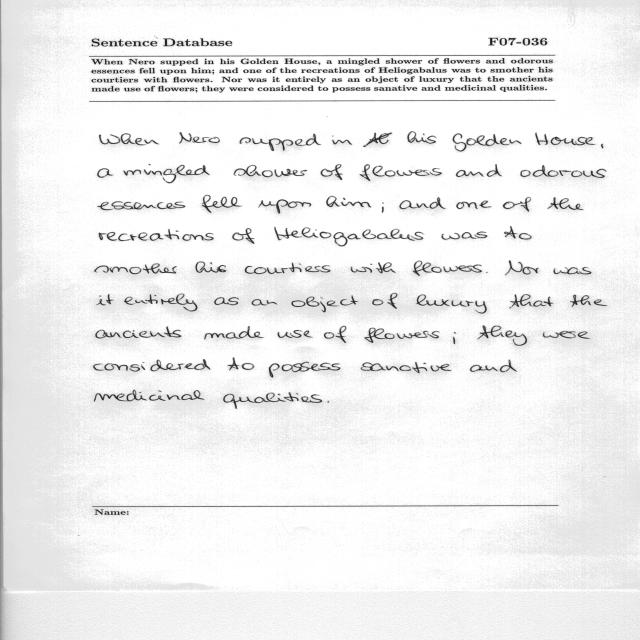word: (275, 227, 424, 246), (223, 392, 322, 409), (124, 164, 210, 183), (94, 359, 211, 372), (239, 134, 321, 151), (360, 164, 442, 181), (99, 229, 214, 241), (124, 294, 198, 312), (417, 295, 487, 314), (95, 390, 205, 402), (453, 134, 522, 152), (292, 296, 359, 313), (269, 362, 340, 378), (365, 328, 440, 343), (521, 165, 607, 178), (413, 261, 482, 276), (96, 327, 181, 339), (478, 326, 528, 346), (361, 362, 451, 373), (245, 263, 330, 274), (95, 264, 177, 275), (234, 165, 307, 177), (259, 199, 312, 214), (98, 202, 186, 211), (536, 133, 596, 146), (204, 326, 264, 339), (99, 134, 159, 146), (202, 195, 242, 213), (510, 294, 554, 308), (456, 164, 502, 177), (470, 360, 517, 372), (400, 198, 446, 210), (326, 196, 371, 207), (179, 132, 220, 144), (351, 263, 395, 274), (505, 261, 539, 275), (548, 197, 584, 210), (570, 295, 607, 307), (503, 197, 531, 212), (363, 133, 392, 147), (372, 293, 397, 309), (504, 226, 532, 240), (543, 331, 590, 339), (324, 326, 346, 343), (442, 232, 488, 240), (321, 164, 343, 180), (233, 228, 255, 244), (407, 132, 436, 144), (196, 262, 227, 273), (228, 358, 254, 370), (456, 201, 492, 209), (277, 330, 312, 338), (554, 267, 592, 274), (214, 297, 239, 305), (97, 295, 114, 306), (332, 136, 352, 145), (252, 299, 277, 306), (98, 169, 113, 178), (453, 332, 456, 344), (382, 203, 384, 213), (601, 144, 603, 148), (486, 272, 488, 273), (328, 401, 329, 403)
